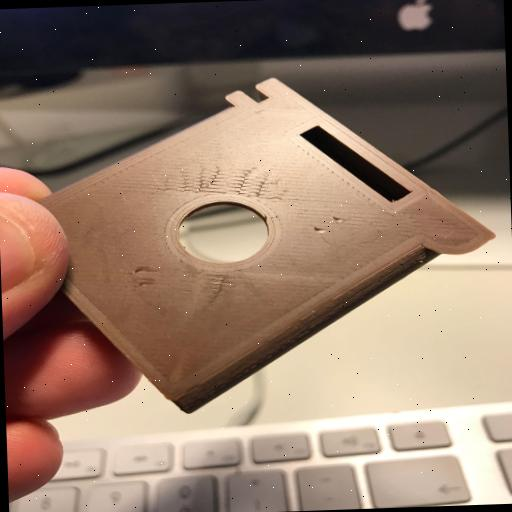cracks: (156, 152, 296, 210), (207, 268, 238, 302), (129, 258, 158, 294), (314, 212, 343, 237)
